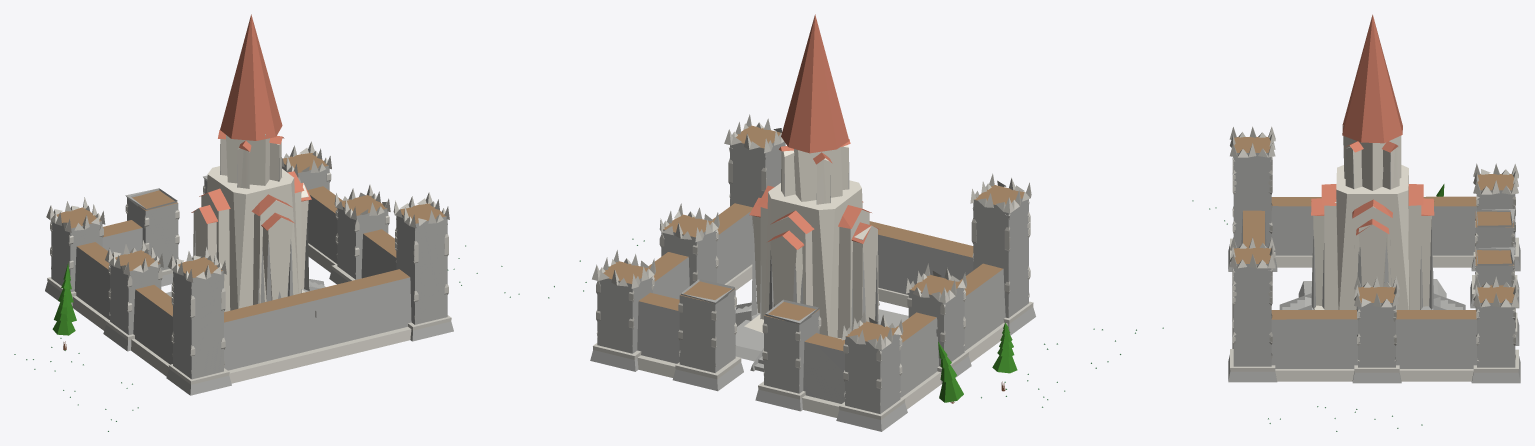
File: chunk_1_0_lod2.glb
3 views of the same model, side by side, from view 1: azimuth 30°, elevation 25°; view 2: azimuth 150°, elevation 25°; view 3: azimuth 270°, elevation 25° (orthographic). The views are drawn at different scales.
Parts seen in each view (by area): view 1: Batched_chunk_1_0_lod2; view 2: Batched_chunk_1_0_lod2; view 3: Batched_chunk_1_0_lod2.
Boxes of the visible parts, <box> form: Batched_chunk_1_0_lod2: <box>14,14,519,431</box>; Batched_chunk_1_0_lod2: <box>548,14,1163,431</box>; Batched_chunk_1_0_lod2: <box>1192,14,1520,431</box>.
Size of the model in its own units: 88.17 by 53.88 by 52.94.
8 materials, 2 textured.
